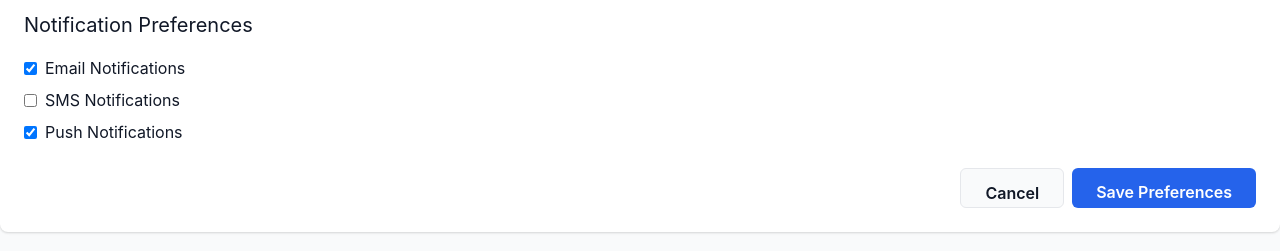
Test case: NotificationPreferences Integration › should cancel editing and revert changes
This screenshot has width=1280, height=251.
Check: the button "Save Preferences" is shown, box [1072,168,1256,208]
What coordinates should you click on to do the following:
click the checkbox labelled "SMS Notifications"
I would click on:
 (30, 100)
Its box is [24,94,37,106].
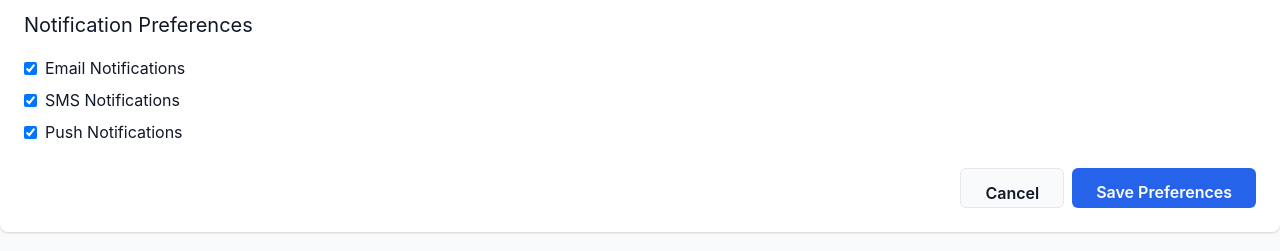
Check: the checkbox labelled "SMS Notifications" is checked, box [24,94,37,106]
What coordinates should you click on to do the following:
click the button "Cancel"
I would click on:
 (1012, 188)
Its box is [960,168,1064,208].
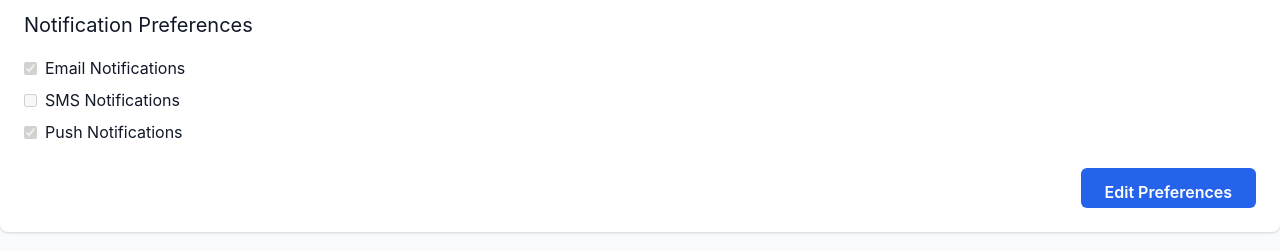
Check: the checkbox labelled "SMS Notifications" is not checked, box [24,94,37,106]
Check: the button "Save Preferences" is gone
Check: the button "Edit Preferences" is shown, box [1081,168,1256,208]
